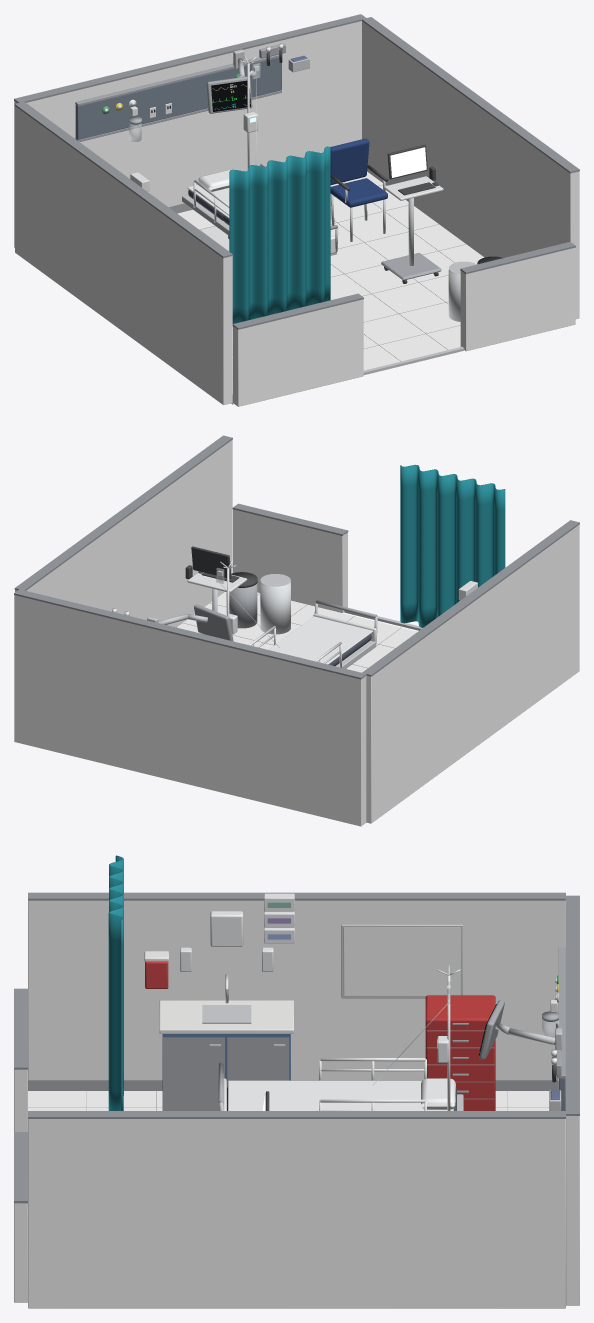
The model's file is room_RES.glb.
The picture shows the model from 3 angles, top to bottom: view 1: azimuth 30°, elevation 25°; view 2: azimuth 150°, elevation 25°; view 3: azimuth 270°, elevation 25°; orthographic projection. The views are drawn at different scales.
Visible parts, largest first — view 1: wall_left.003, wall_right.003, wall_back.003, floor_room.003, curtain.003, wall_front.006, wall_front.007, headwall.003, cap_back.003, cap_left.003, cap_right.003, chair_back.003 (+14 smaller); view 2: wall_back.003, wall_left.003, wall_right.003, curtain.003, wall_front.007, floor_room.003, cap_back.003, sheet_foot.003, cap_left.003, cap_right.003, linen.003, trash.003 (+4 smaller); view 3: wall_right.003, wall_left.003, whiteboard.003, cart.003, cap_left.003, cab_door_gap.006, cap_right.003, sheet_foot.003, curtain.003, counter.003, floor_room.003, cap_back.003 (+16 smaller).
Boxes of the visible parts, left/top/right/bottom form: wall_left.003: left=15, top=106, right=232, bottom=404; wall_right.003: left=362, top=21, right=579, bottom=318; wall_back.003: left=14, top=21, right=361, bottom=247; floor_room.003: left=177, top=172, right=483, bottom=404; curtain.003: left=229, top=146, right=330, bottom=323; wall_front.006: left=233, top=299, right=363, bottom=406; wall_front.007: left=460, top=247, right=575, bottom=351; headwall.003: left=75, top=57, right=281, bottom=139; cap_back.003: left=14, top=14, right=366, bottom=102; cap_left.003: left=14, top=101, right=232, bottom=258; cap_right.003: left=362, top=17, right=579, bottom=173; chair_back.003: left=330, top=138, right=369, bottom=184; wall_back.003: left=14, top=595, right=366, bottom=826; wall_left.003: left=366, top=524, right=579, bottom=823; wall_right.003: left=15, top=440, right=232, bottom=627; curtain.003: left=400, top=464, right=505, bottom=627; wall_front.007: left=233, top=509, right=347, bottom=612; floor_room.003: left=177, top=592, right=417, bottom=672; cap_back.003: left=14, top=589, right=366, bottom=679; sheet_foot.003: left=268, top=616, right=373, bottom=664; cap_left.003: left=362, top=520, right=579, bottom=676; cap_right.003: left=14, top=435, right=232, bottom=590; linen.003: left=260, top=581, right=290, bottom=634; trash.003: left=226, top=583, right=257, bottom=628; wall_right.003: left=28, top=1119, right=565, bottom=1308; wall_left.003: left=28, top=900, right=565, bottom=1079; whiteboard.003: left=343, top=927, right=460, bottom=996; cart.003: left=425, top=995, right=495, bottom=1110; cap_left.003: left=28, top=892, right=565, bottom=900; cab_door_gap.006: left=163, top=1037, right=224, bottom=1110; cap_right.003: left=28, top=1111, right=565, bottom=1118; sheet_foot.003: left=228, top=1080, right=364, bottom=1110; curtain.003: left=108, top=855, right=123, bottom=1110; counter.003: left=159, top=1000, right=293, bottom=1033; floor_room.003: left=28, top=1091, right=549, bottom=1110; cap_back.003: left=565, top=895, right=579, bottom=1115.
Size of the model in its own units: 4.54 by 2.42 by 4.84.
32 materials, 1 textured.
